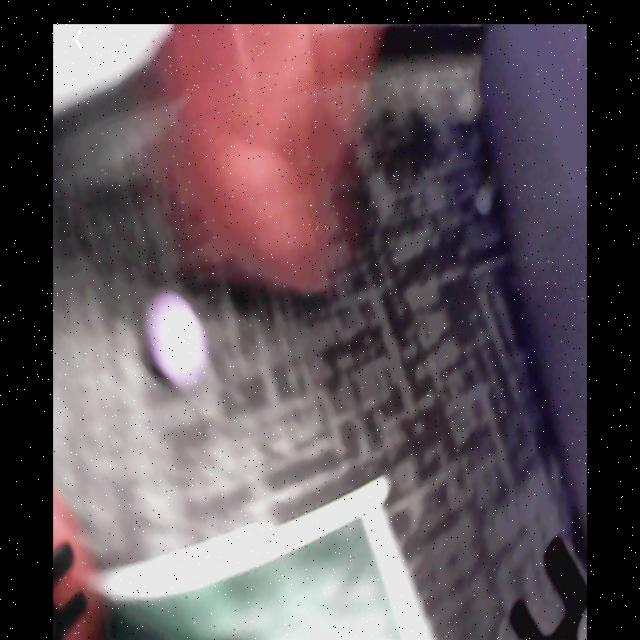ball: (148, 299, 206, 381)
